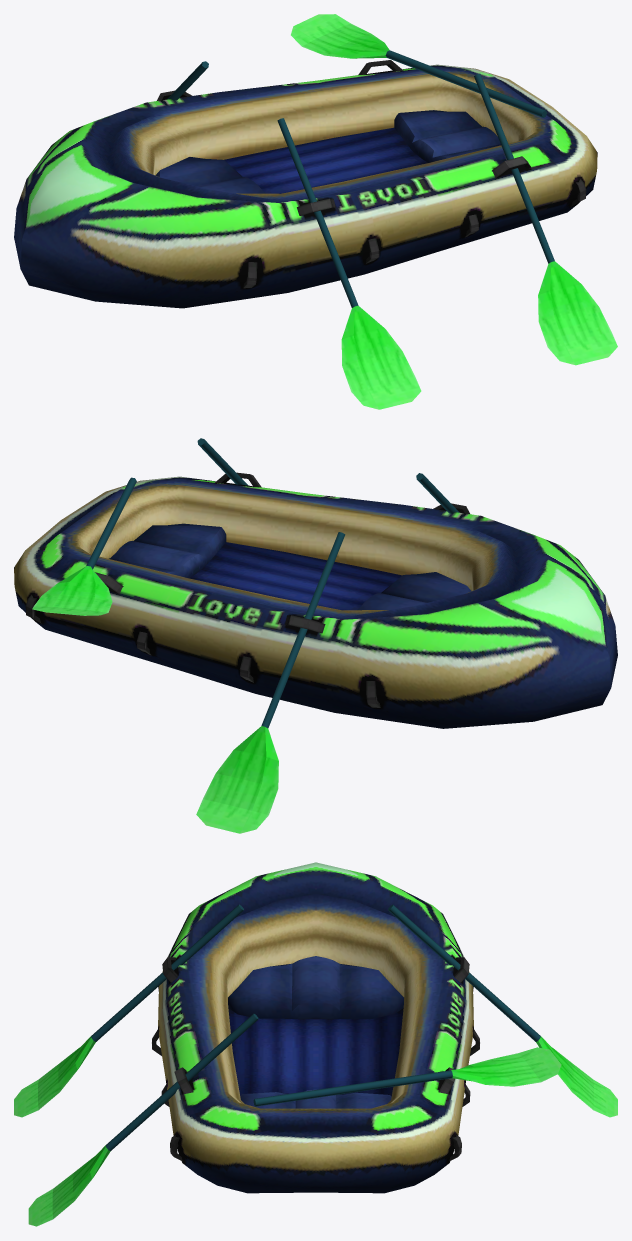
The model's file is furni_0201016.FBX.
The picture shows the model from 3 angles, top to bottom: view 1: azimuth 30°, elevation 25°; view 2: azimuth 150°, elevation 25°; view 3: azimuth 270°, elevation 25°; orthographic projection. The views are drawn at different scales.
Visible parts, largest first — view 1: furni_0201016; view 2: furni_0201016; view 3: furni_0201016.
Boxes of the visible parts, x1,y1,x2,y2 form: furni_0201016: (14, 14, 617, 409); furni_0201016: (14, 438, 617, 833); furni_0201016: (14, 862, 617, 1226).
Size of the model in its own units: 493 by 187 by 481.
Materials: 1 (1 with a texture image).
